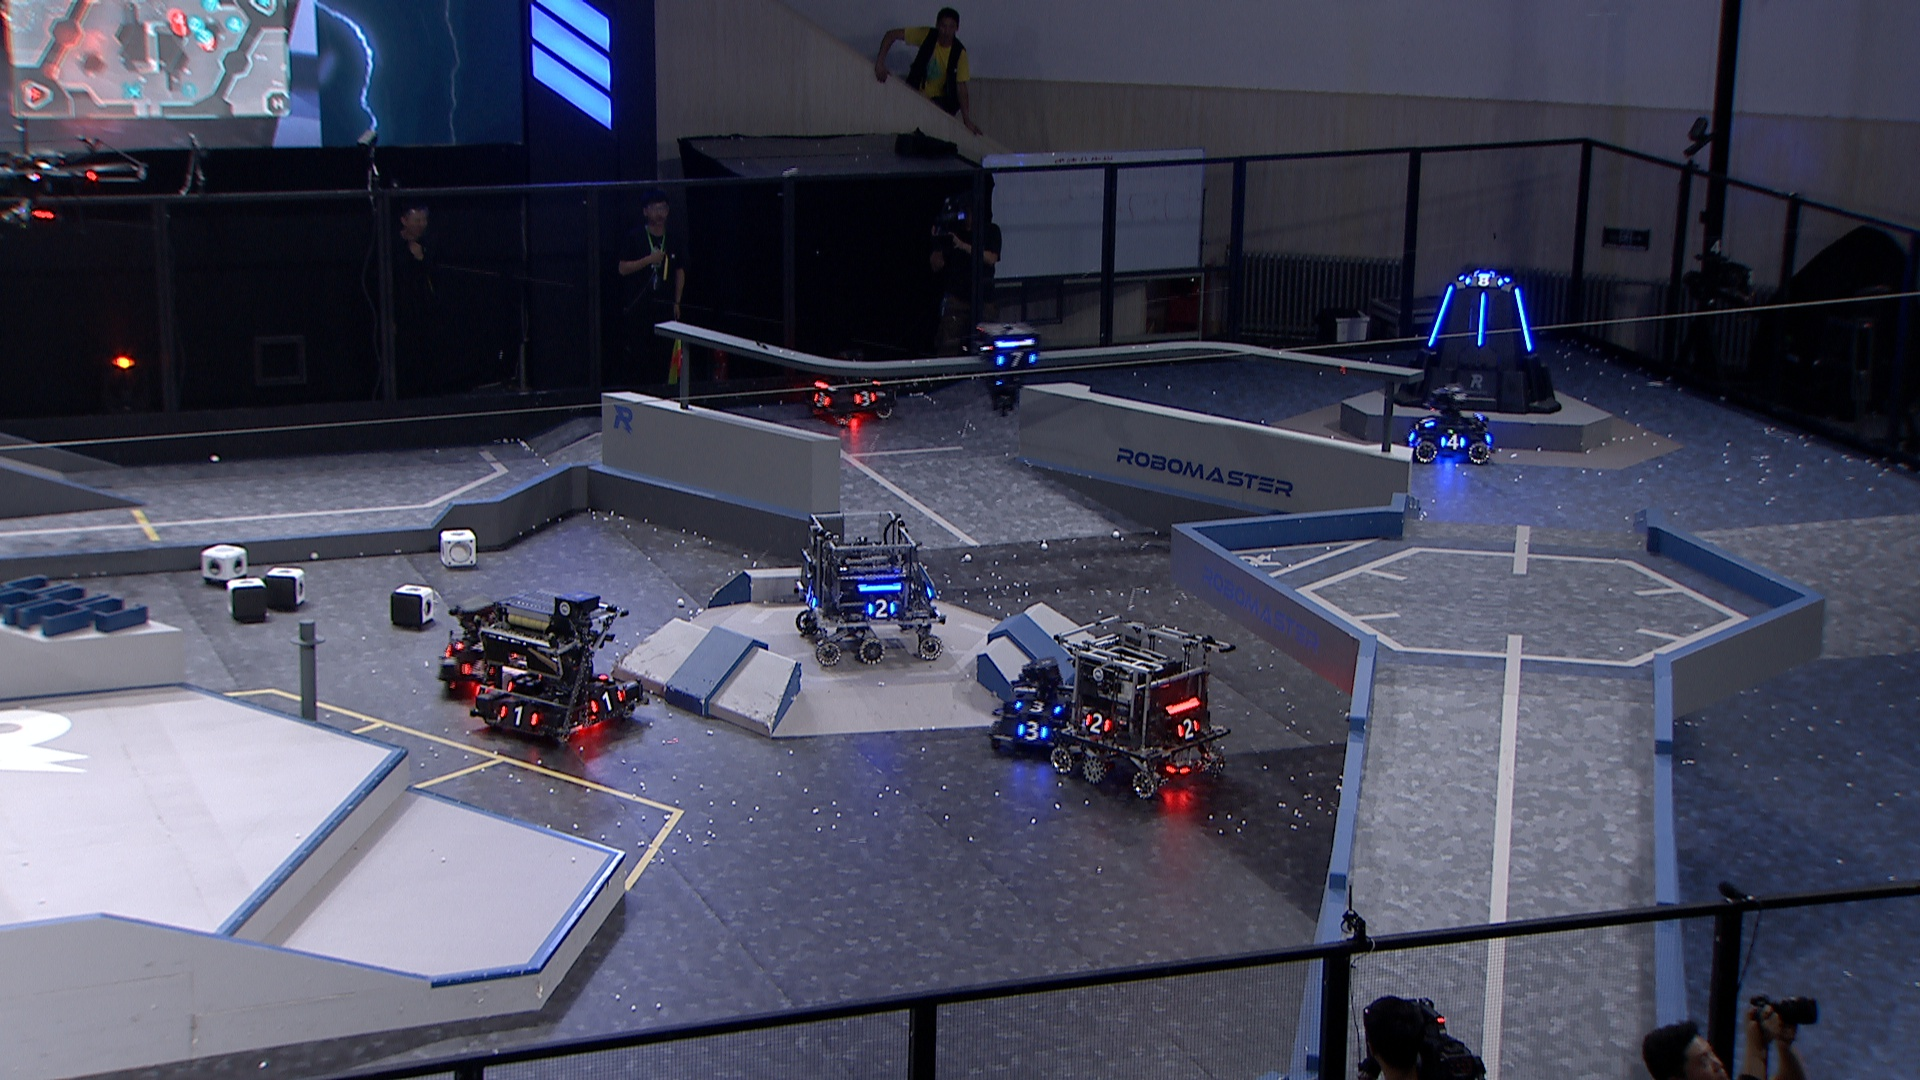armor: (1423, 282, 1461, 348), (1513, 287, 1536, 353), (456, 657, 495, 684), (585, 688, 626, 713), (1474, 291, 1491, 348), (1011, 698, 1063, 716), (498, 704, 541, 727), (992, 348, 1038, 368), (1462, 272, 1506, 291), (864, 597, 898, 622), (1017, 717, 1048, 744), (1174, 716, 1201, 742), (1083, 711, 1112, 735), (452, 636, 487, 655), (808, 386, 835, 410), (851, 386, 878, 407), (1439, 434, 1465, 450), (802, 585, 818, 611), (1415, 414, 1433, 429)
base: (1390, 266, 1564, 415)
car: (1048, 605, 1249, 802), (472, 582, 654, 744), (795, 505, 948, 669), (986, 657, 1092, 756), (436, 595, 534, 692), (1406, 382, 1501, 465), (802, 353, 899, 431)
watcher: (975, 318, 1040, 419)
